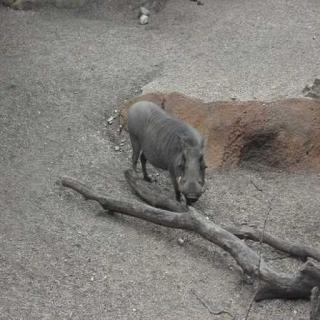Pig: (121, 70, 232, 194)
